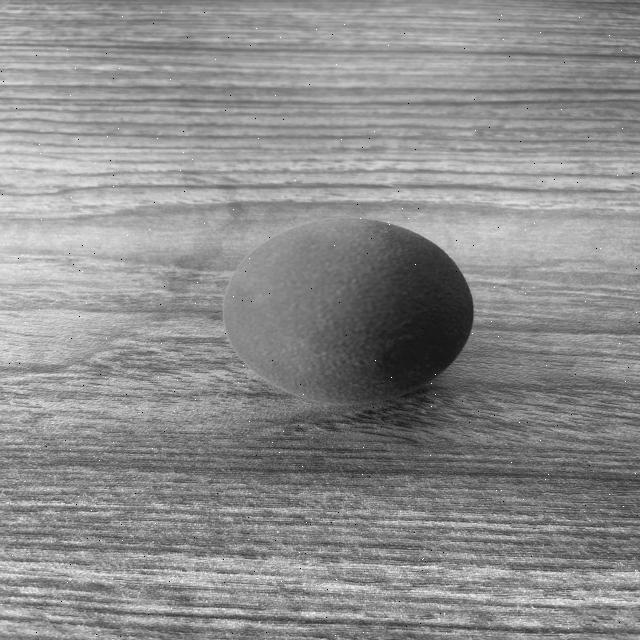ping-pong-ball: (220, 217, 476, 406)
